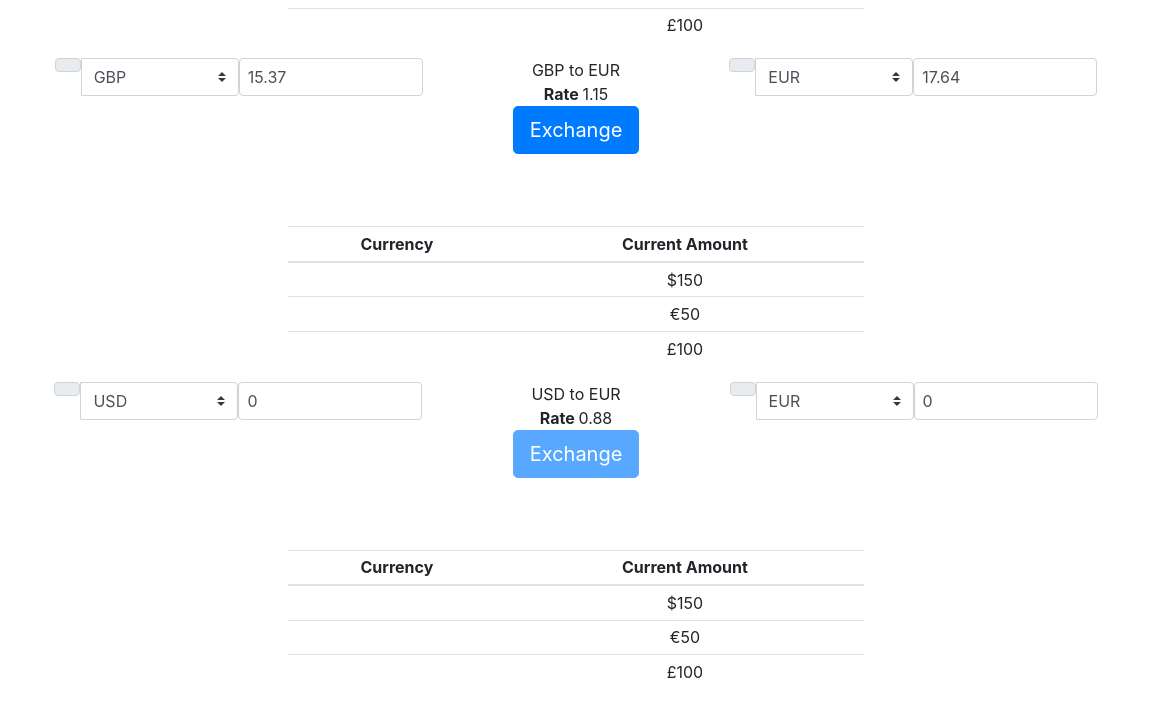
Test: after receiving data › handles exchnage
This screenshot has width=1152, height=705.
(page scrolled)
Replace the text in the 3rd field with "20" at (330, 400), box [238,382,422,420]
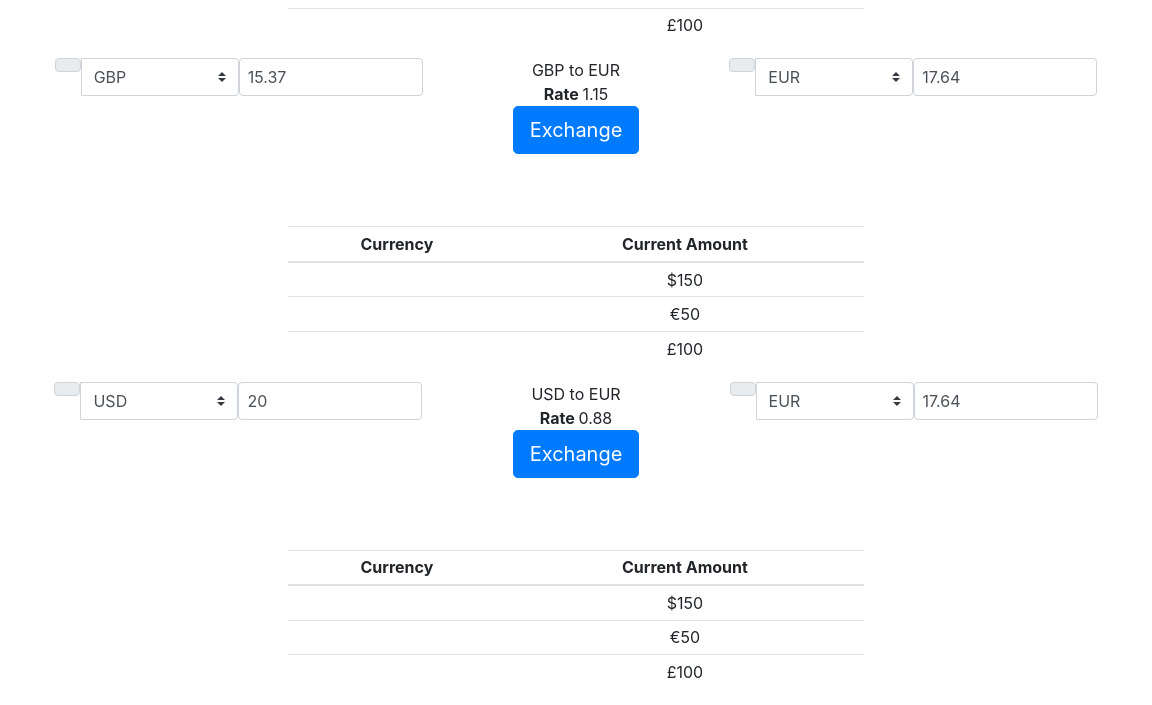
Now the 2nd button "Exchange" is enabled
Click the 2nd button "Exchange" at (576, 454), box [513,430,639,478]
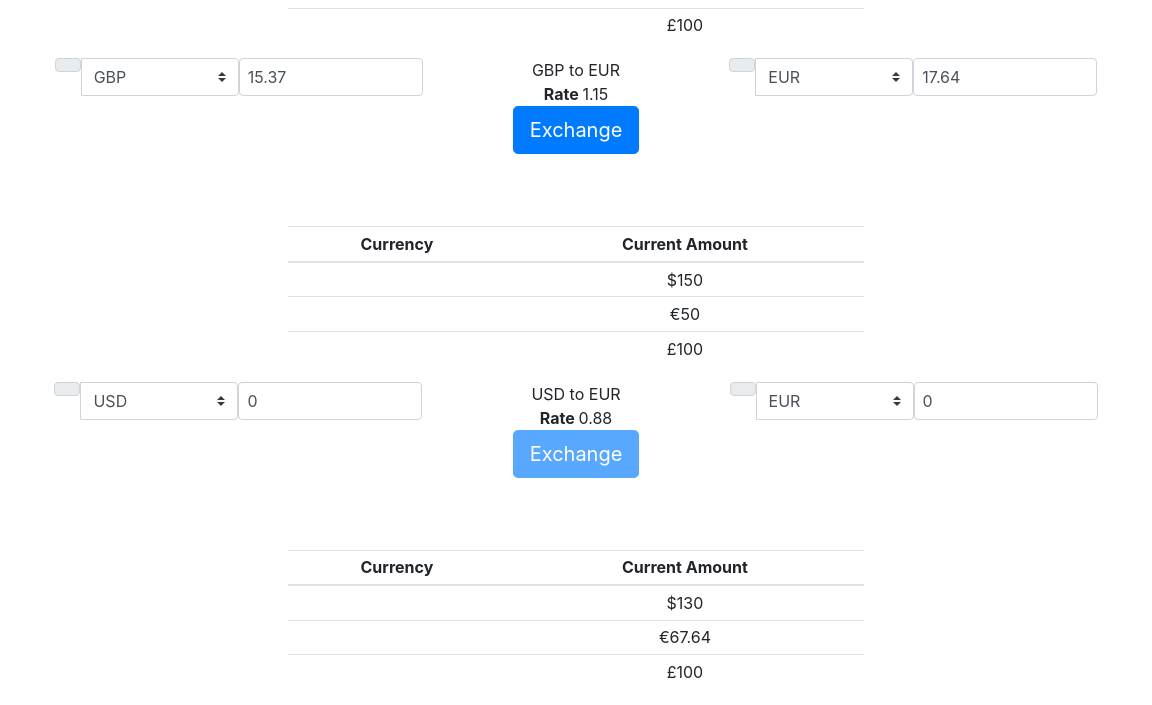
Now the 3rd field holds "0", box [238,382,422,420]
Now the 4th field holds "0", box [914,382,1098,420]
